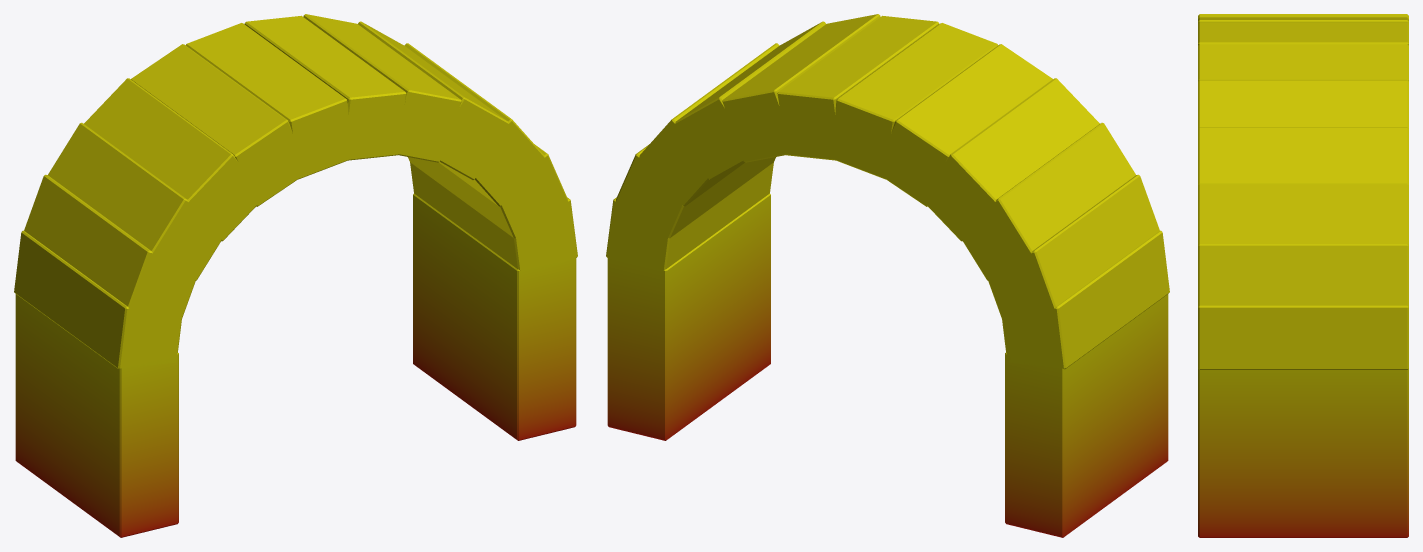
File: cave_mouth.glb
3 views of the same model, side by side, from view 1: azimuth 30°, elevation 25°; view 2: azimuth 150°, elevation 25°; view 3: azimuth 270°, elevation 25° (orthographic).
Visible parts, largest first — view 1: cave_mouth; view 2: cave_mouth; view 3: cave_mouth.
Part boxes in pixels (x1,y1,x2,y2): cave_mouth: [14, 14, 577, 537]; cave_mouth: [606, 14, 1169, 537]; cave_mouth: [1198, 14, 1408, 537].
Size of what is drawn, in the model's own units: 10.07 by 8.04 by 4.
